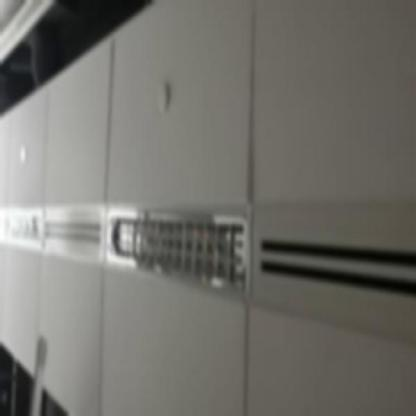light_off: (102, 184, 251, 300), (0, 193, 49, 273)
